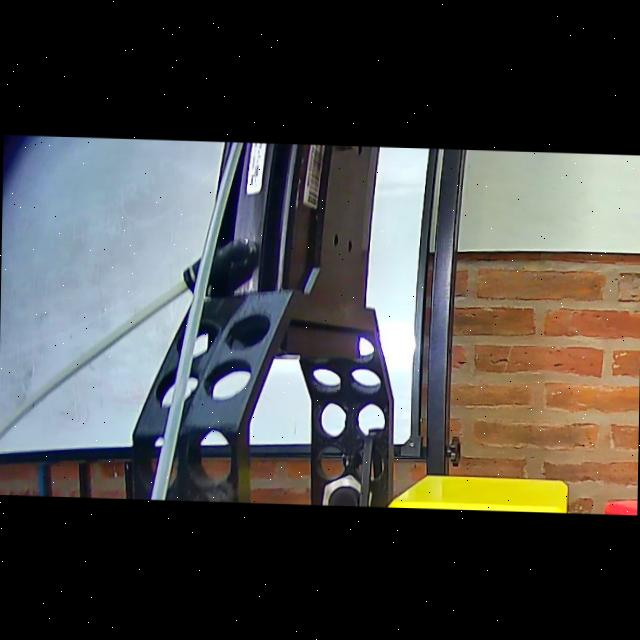redBox: (596, 480, 638, 512)
yellowBox: (382, 468, 576, 511)
